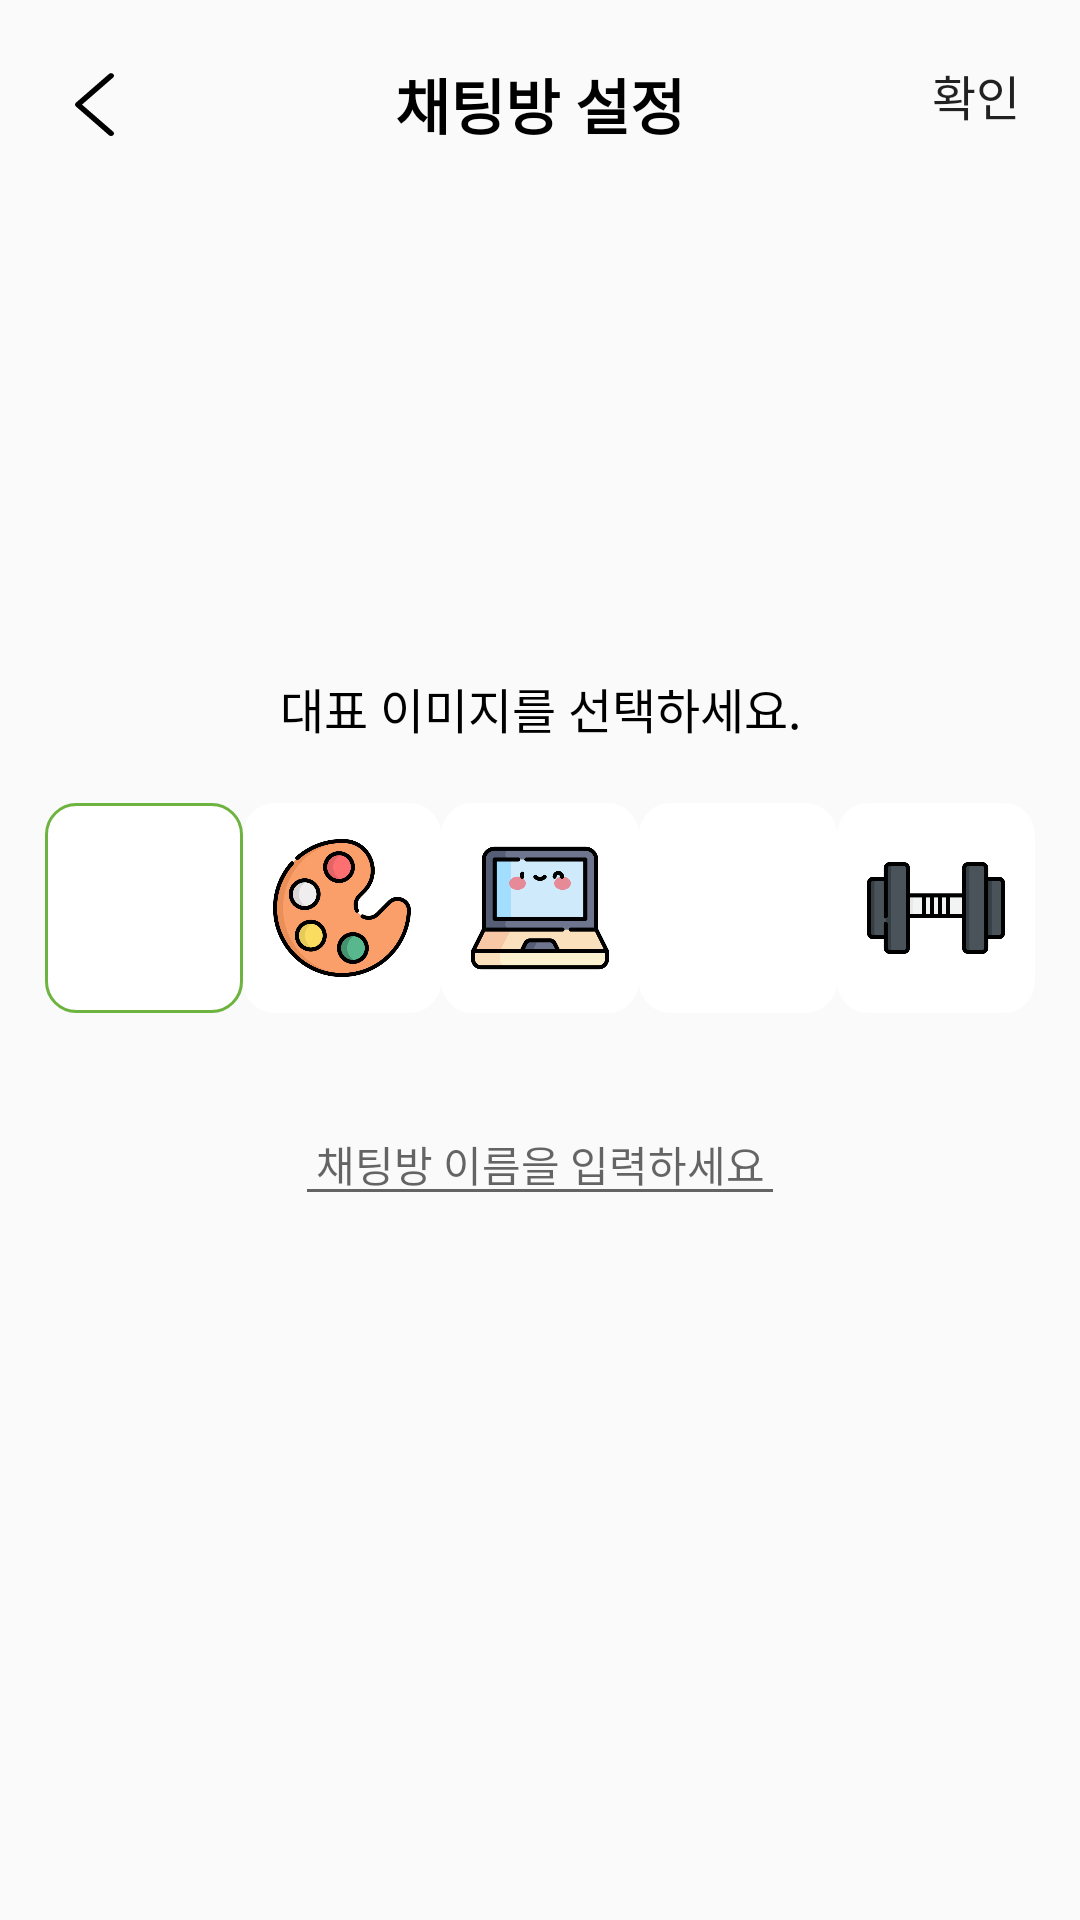

Locate icon controls on the screen. Image size 1080x1920, boxes as (x1, y1, x2, y2).
before: (75, 73, 114, 136)
group gym: (867, 862, 1005, 954)
group laptop: (471, 846, 609, 970)
group palette: (273, 839, 411, 977)
